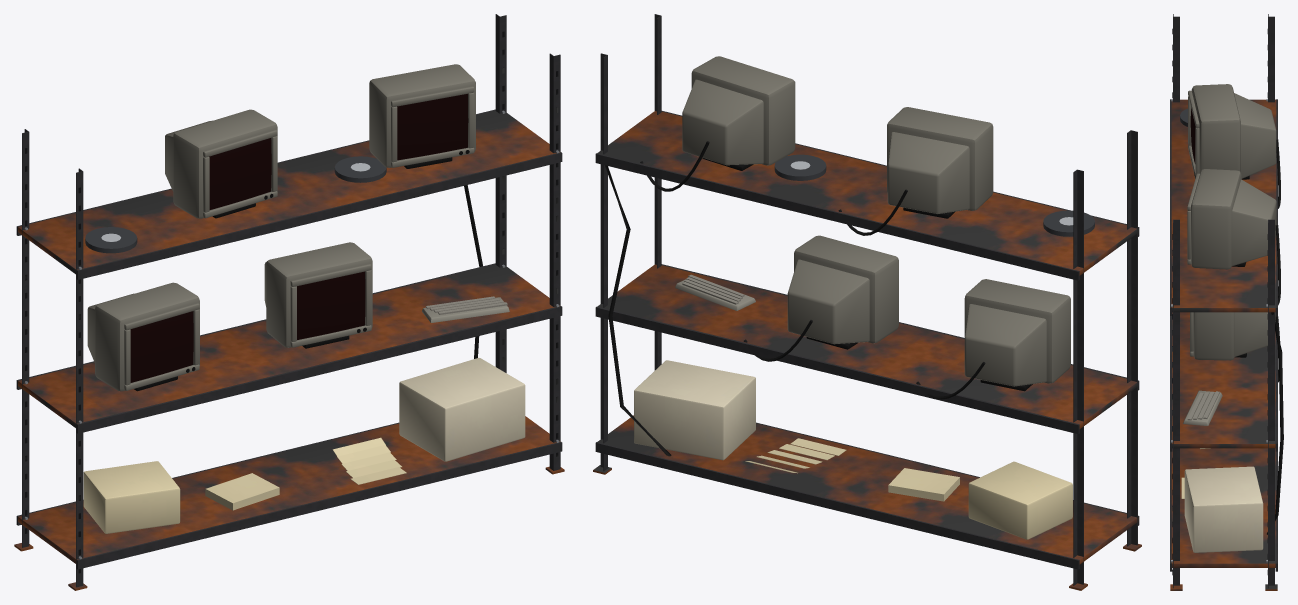
File: error_screens.glb
3 views of the same model, side by side, from view 1: azimuth 30°, elevation 25°; view 2: azimuth 150°, elevation 25°; view 3: azimuth 270°, elevation 25° (orthographic). The views are drawn at different scales.
Parts seen in each view (by area): view 1: shelf, e2Shell, e0Shell, e1Shell, e3Shell, errScreen3, errScreen1, errScreen0, errScreen2; view 2: shelf, e3Shell, e1Shell, e0Shell, e2Shell; view 3: shelf, e3Shell, e2Shell, e1Shell, errScreen2.
Part boxes in pixels (bbox=[...]): shelf: bbox=[14, 14, 564, 590]; e2Shell: bbox=[165, 109, 277, 218]; e0Shell: bbox=[87, 282, 199, 391]; e1Shell: bbox=[264, 242, 372, 348]; e3Shell: bbox=[369, 64, 475, 168]; errScreen3: bbox=[397, 94, 468, 160]; errScreen1: bbox=[297, 271, 365, 339]; errScreen0: bbox=[130, 311, 193, 382]; errScreen2: bbox=[209, 138, 271, 209]; shelf: bbox=[593, 14, 1141, 590]; e3Shell: bbox=[682, 56, 795, 170]; e1Shell: bbox=[787, 235, 898, 349]; e0Shell: bbox=[964, 279, 1070, 391]; e2Shell: bbox=[887, 107, 993, 218]; shelf: bbox=[1170, 14, 1283, 590]; e3Shell: bbox=[1187, 169, 1276, 269]; e2Shell: bbox=[1188, 84, 1276, 179]; e1Shell: bbox=[1190, 312, 1275, 360]; errScreen2: bbox=[1190, 108, 1195, 163].
Size of the model in its own units: 2.83 by 2.3 by 0.646.
Materials: 15 (7 with a texture image).
